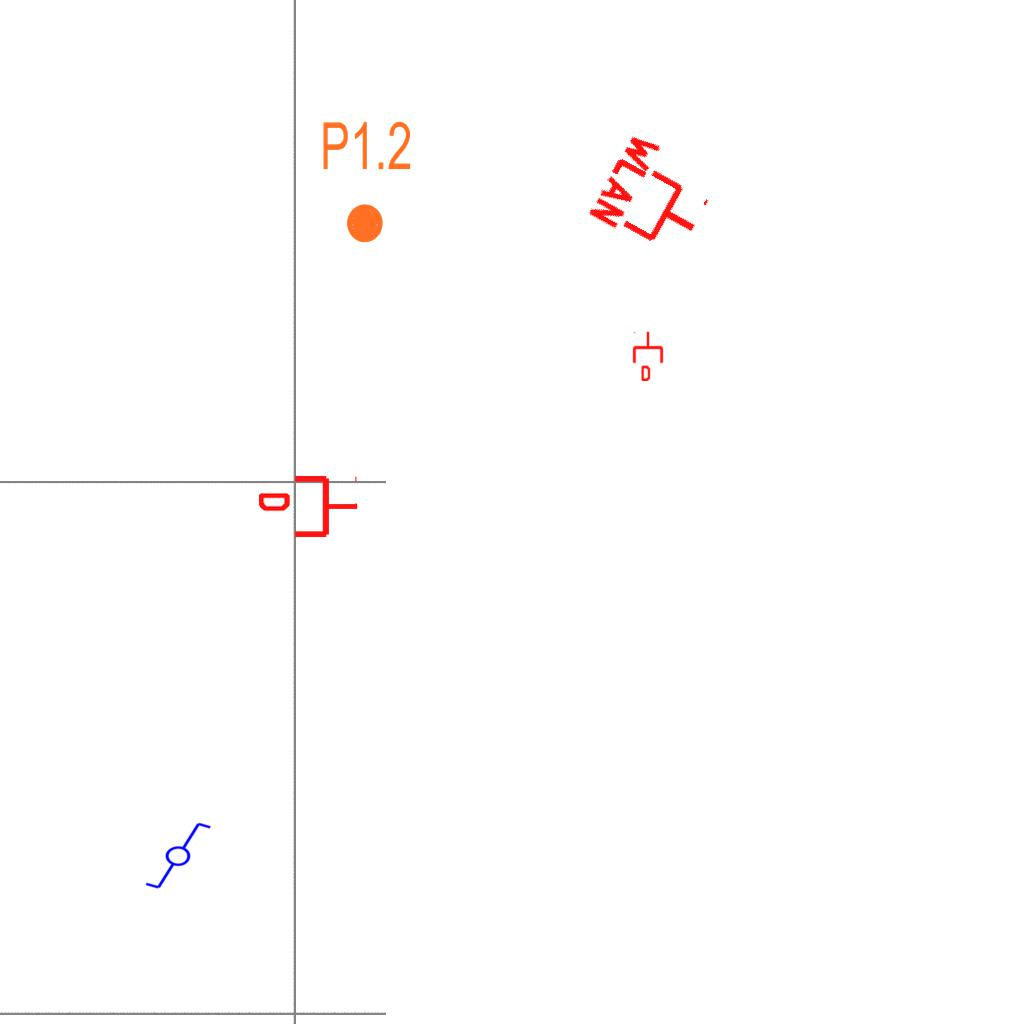Datenanschluss_einfach: (259, 472, 359, 541), (631, 331, 665, 381)
Downlight_LED_Einbauleuchten_Flur: (320, 118, 413, 246)
WLAN: (584, 126, 727, 268)
Wechselschalter: (135, 819, 213, 891)
